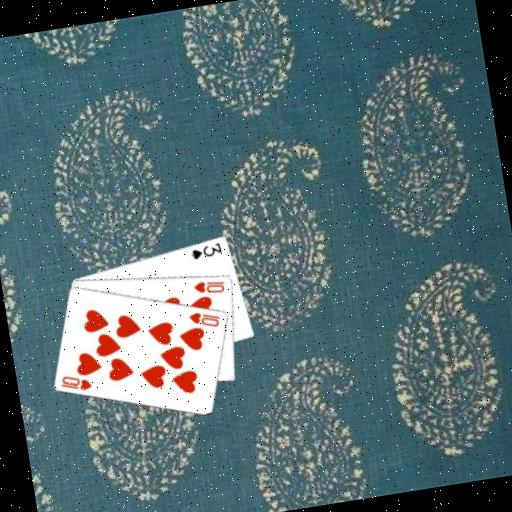10H: (185, 305, 223, 332), (57, 368, 94, 395), (189, 274, 226, 297)
3S: (187, 239, 224, 261)
